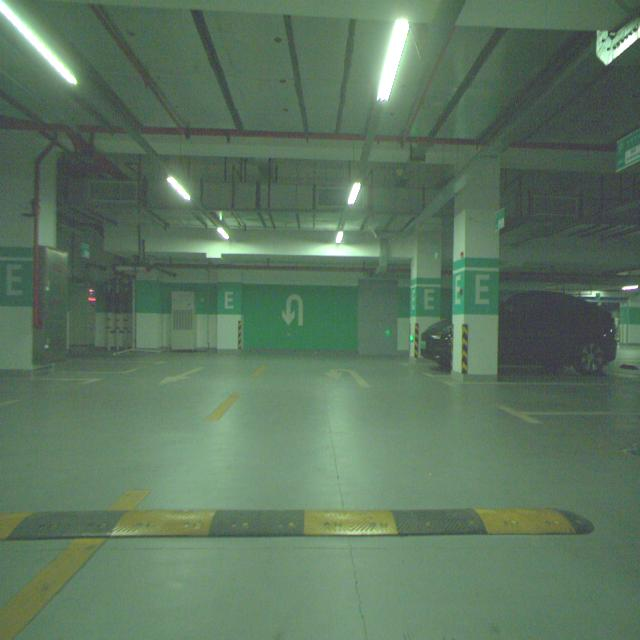pillar: (452, 170, 499, 380), (410, 227, 441, 358)
